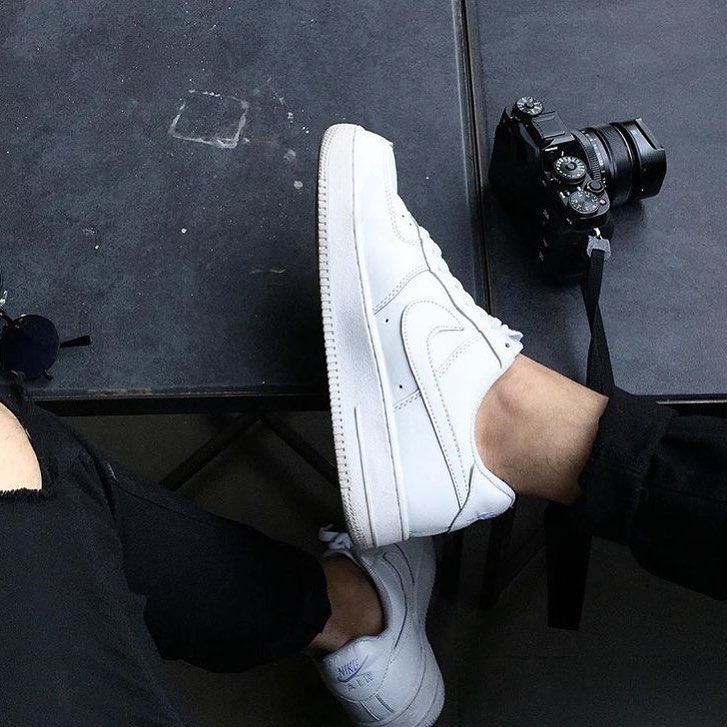sneaker: (294, 111, 554, 584), (279, 477, 468, 727)
